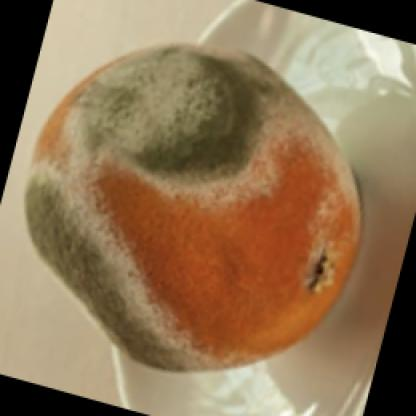rotten: (31, 45, 366, 378)
